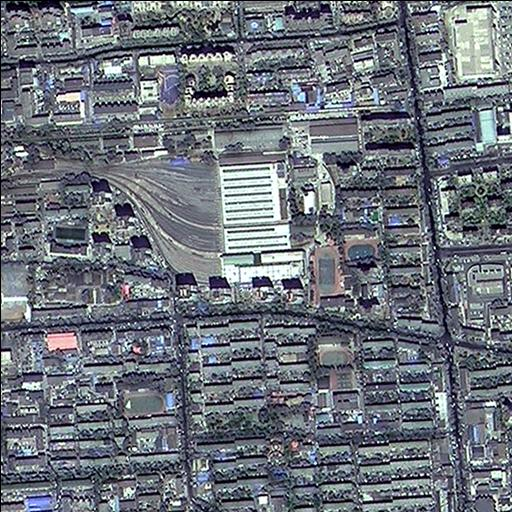school: (310, 232, 382, 313), (315, 323, 359, 392), (117, 380, 181, 417)
